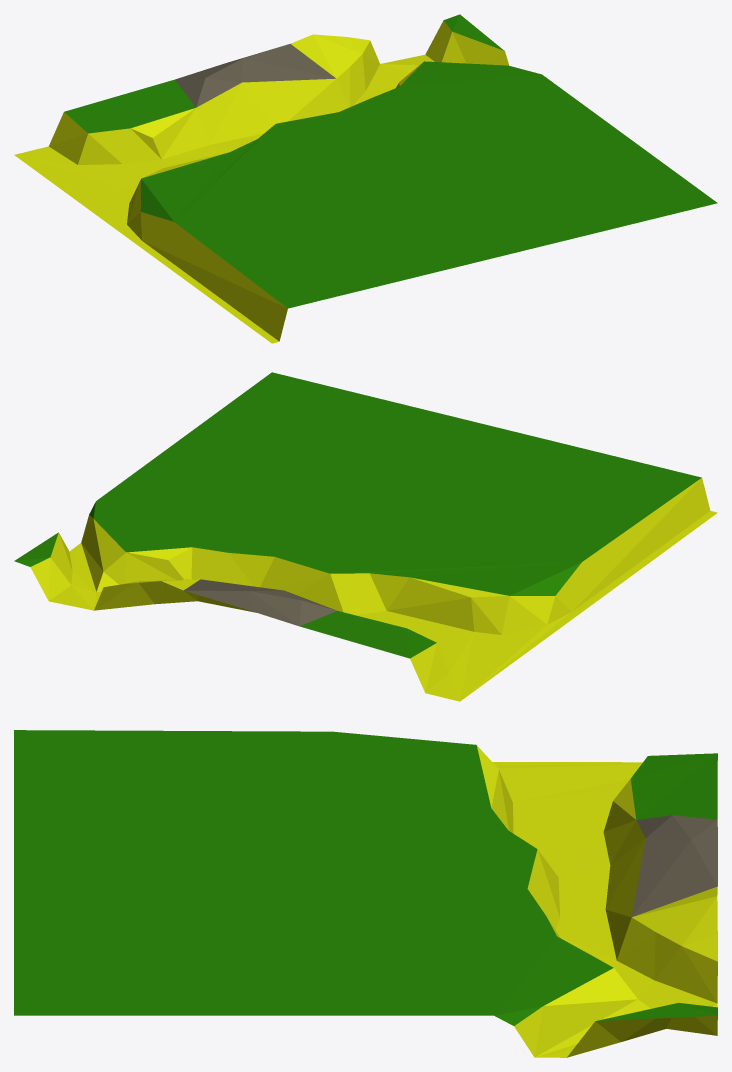
3 views of the same model, one above another, from view 1: azimuth 30°, elevation 25°; view 2: azimuth 150°, elevation 25°; view 3: azimuth 270°, elevation 25° (orthographic). The views are drawn at different scales.
Parts seen in each view (by area): view 1: TerrainVeryHigh.004; view 2: TerrainVeryHigh.004; view 3: TerrainVeryHigh.004.
Part boxes in pixels (<box>): TerrainVeryHigh.004: <box>14,14,717,343</box>; TerrainVeryHigh.004: <box>14,372,717,701</box>; TerrainVeryHigh.004: <box>14,730,717,1057</box>.
Bounding box in the file's own units: 1247 × 1250 × 134.
